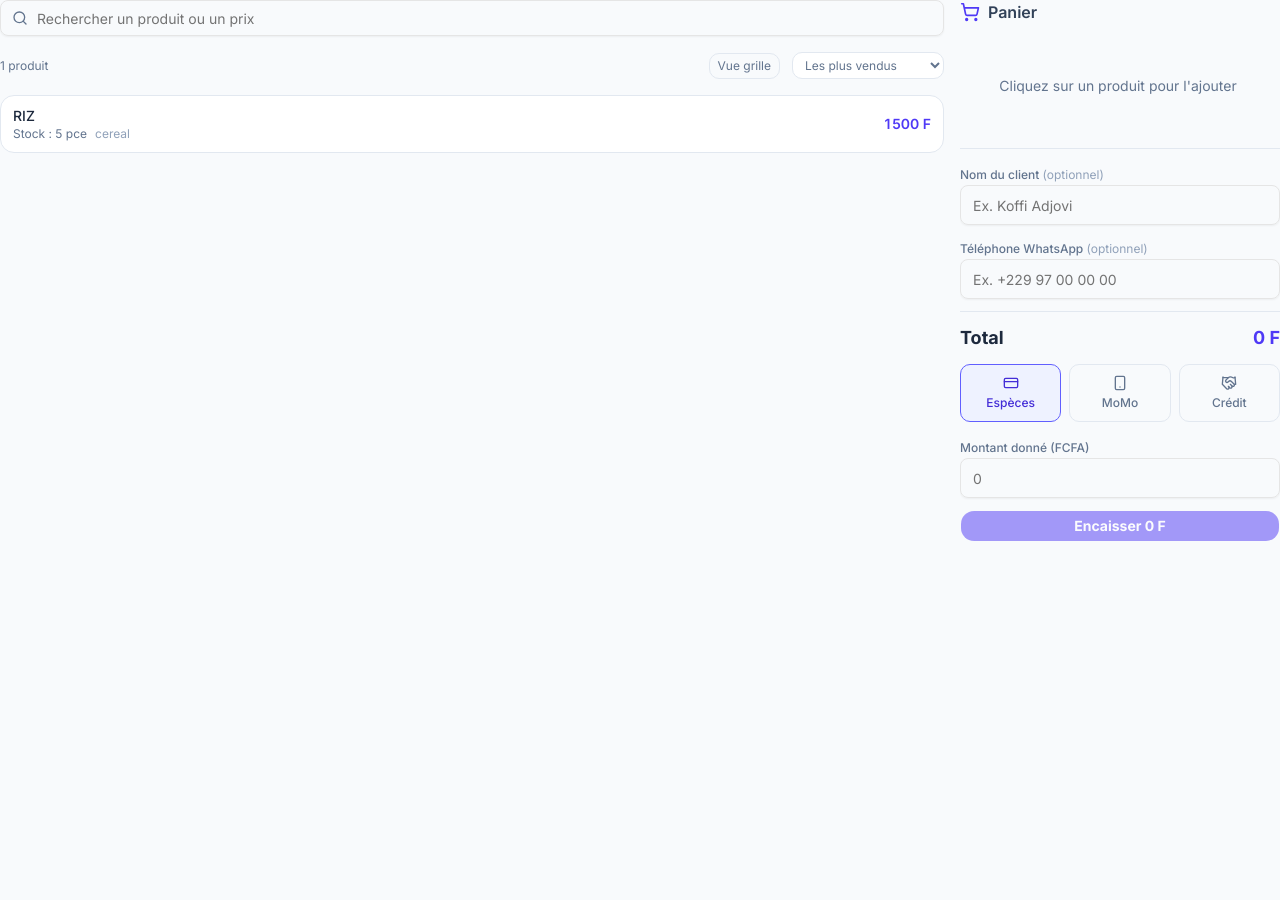
Scenario: Caisse — facture normalisée : le verrou › connexion fermée : le motif parle de la connexion, pas de l’IFU
What coordinates should you click on to do the following:
click the text "RIZ"
I would click on:
 (24, 116)
Its box is [13, 107, 35, 124].
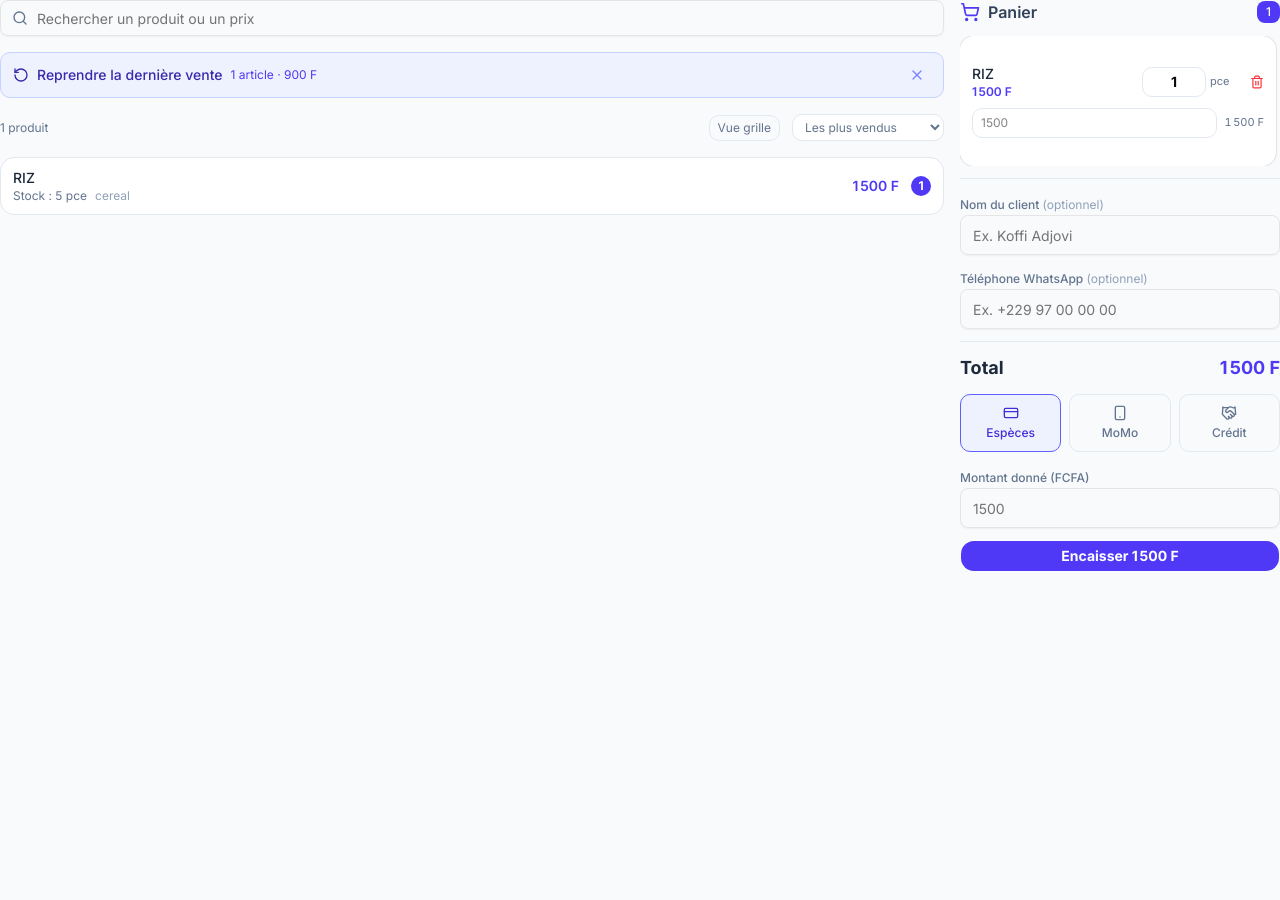
What coordinates should you click on to do the following:
click the button "Encaisser 1 500 F"
I would click on:
 (1120, 556)
Its box is [960, 540, 1279, 572].
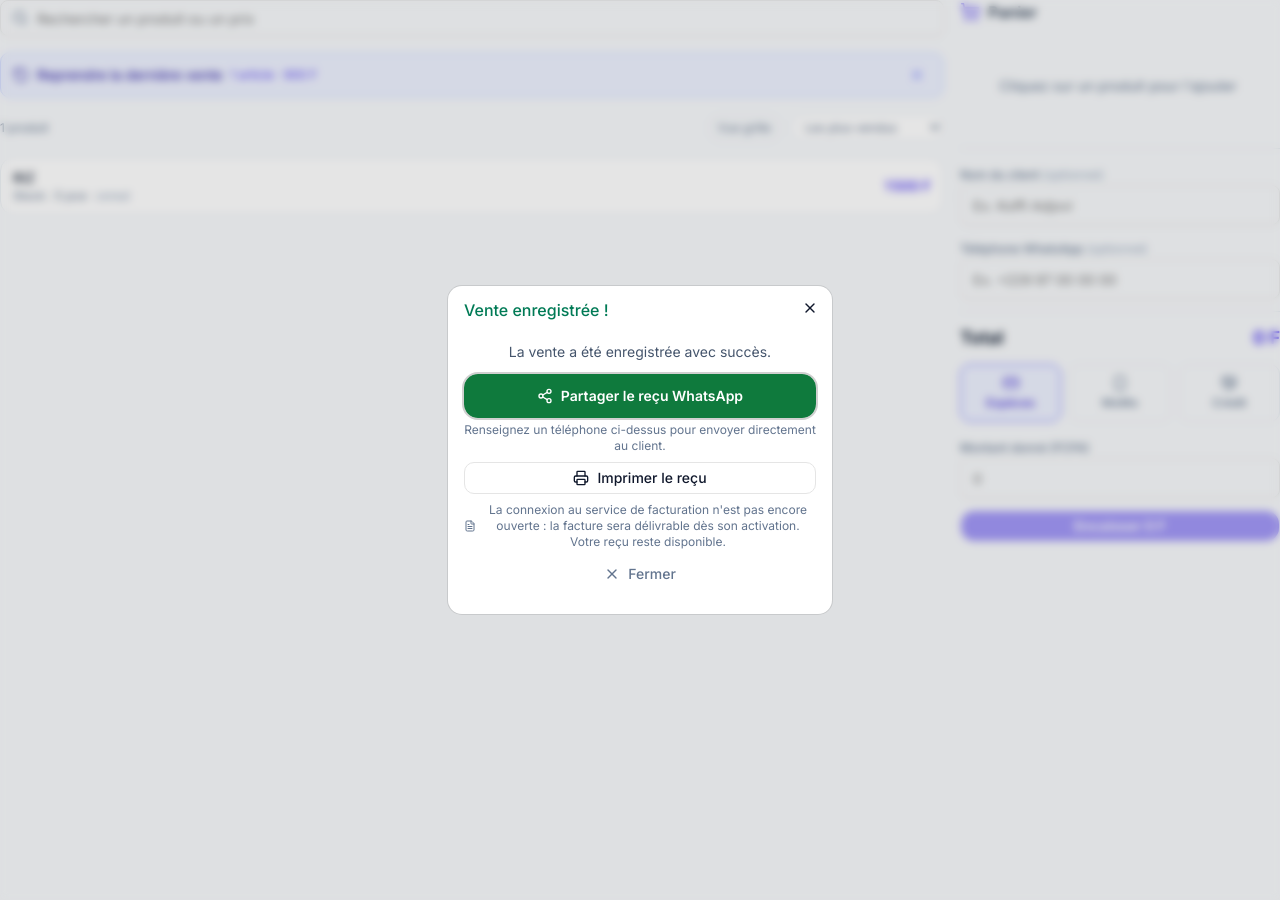
Result: the heading "Vente enregistrée !" is shown at [464, 300, 609, 320]
Result: the text "n'est pas encore ouverte" is shown at [489, 502, 807, 549]
Result: the button "Imprimer le reçu" is shown at [464, 462, 816, 494]
